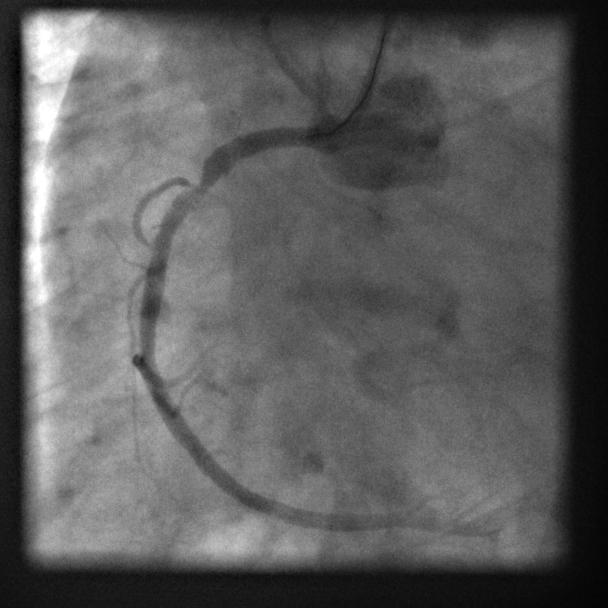Stenosis: (180, 163, 213, 208)
